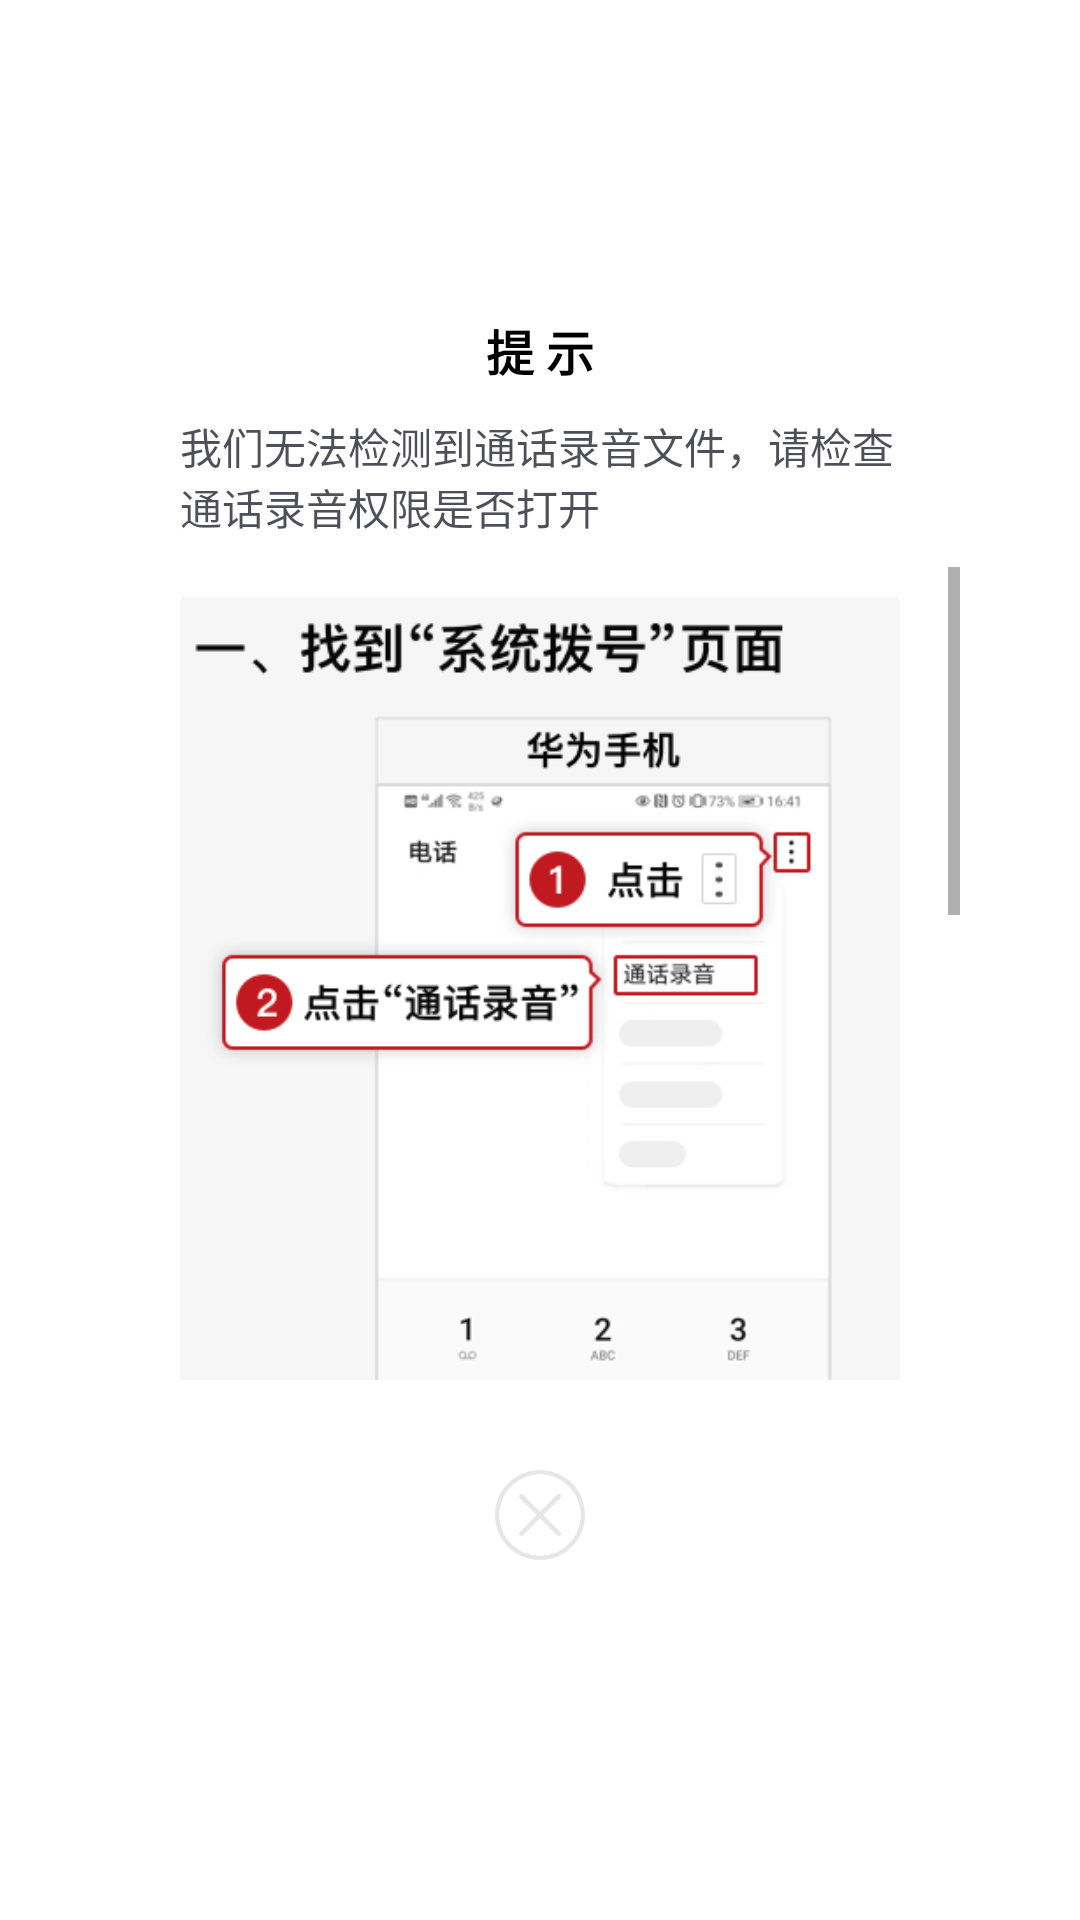

Point at icon controls on the screen. Image size 1080px×1920px, points as point (x, y).
context close: point (540, 1514)
